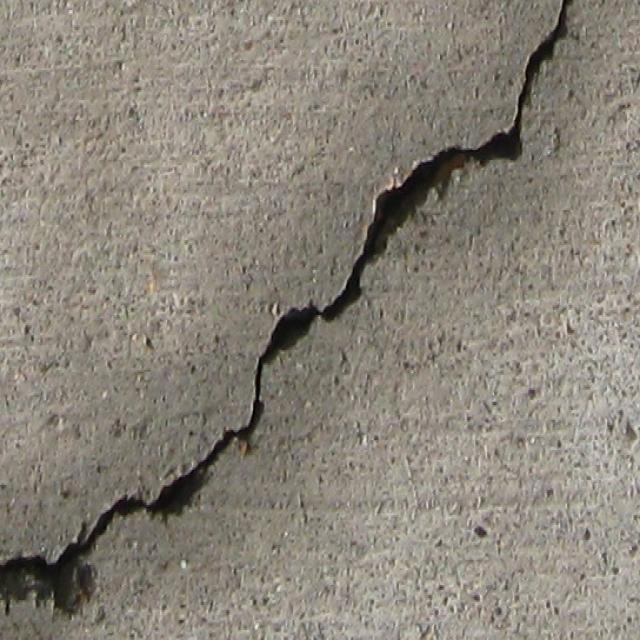crack: (1, 295, 343, 620), (344, 0, 577, 316)
